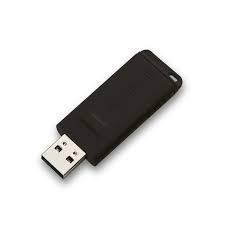pendrive: (39, 46, 183, 181)
